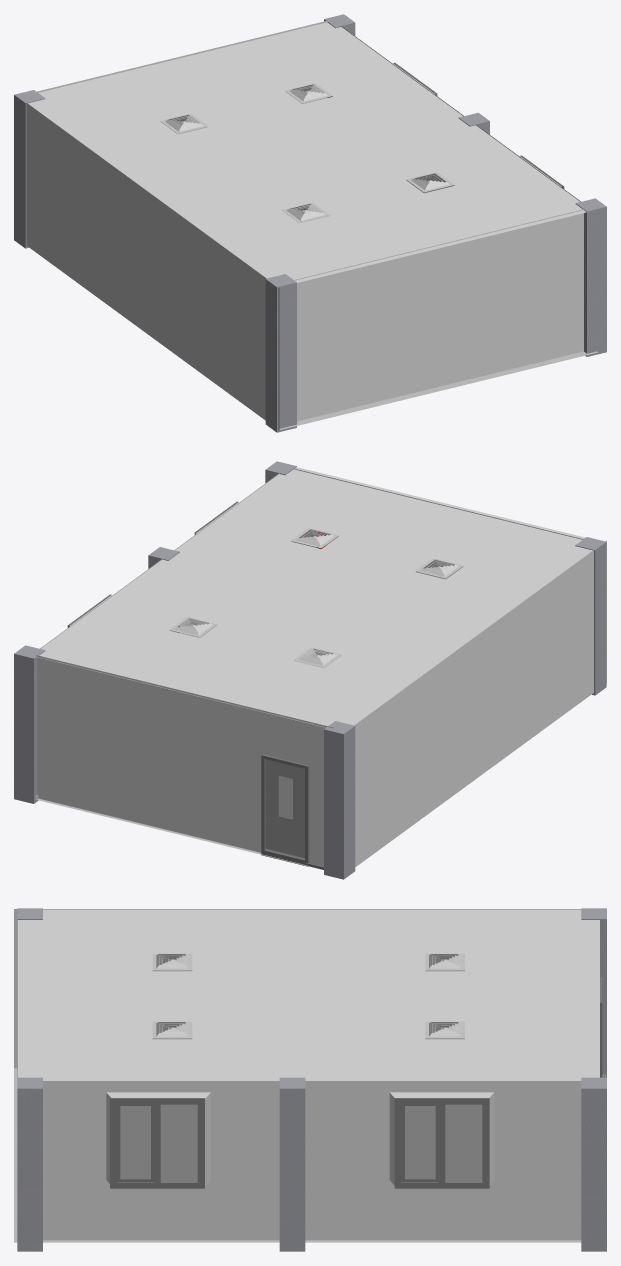
File: Environments.fbx
3 views of the same model, one above another, from view 1: azimuth 30°, elevation 25°; view 2: azimuth 150°, elevation 25°; view 3: azimuth 270°, elevation 25° (orthographic). The views are drawn at different scales.
Parts seen in each view (by area): view 1: Wall, Pillars, AirVent, Floor; view 2: Wall, Pillars, Door, AirVent, Floor; view 3: Wall, Pillars, Window_1, Window_1.001, AirVent, Floor.
Part boxes in pixels (left/top/right/bottom): Wall: left=26, top=20, right=586, bottom=430; Pillars: left=14, top=14, right=606, bottom=432; AirVent: left=160, top=83, right=454, bottom=222; Floor: left=279, top=204, right=597, bottom=429; Wall: left=36, top=467, right=606, bottom=866; Pillars: left=14, top=461, right=606, bottom=879; Door: left=261, top=754, right=309, bottom=866; AirVent: left=169, top=528, right=463, bottom=667; Floor: left=36, top=649, right=341, bottom=865; Wall: left=14, top=909, right=599, bottom=1240; Pillars: left=17, top=908, right=606, bottom=1251; Window_1: left=394, top=1098, right=489, bottom=1188; Window_1.001: left=110, top=1098, right=204, bottom=1188; AirVent: left=152, top=953, right=464, bottom=1038; Floor: left=14, top=1068, right=581, bottom=1242.
Size of the model in its own units: 37.92 by 16.22 by 52.65.
